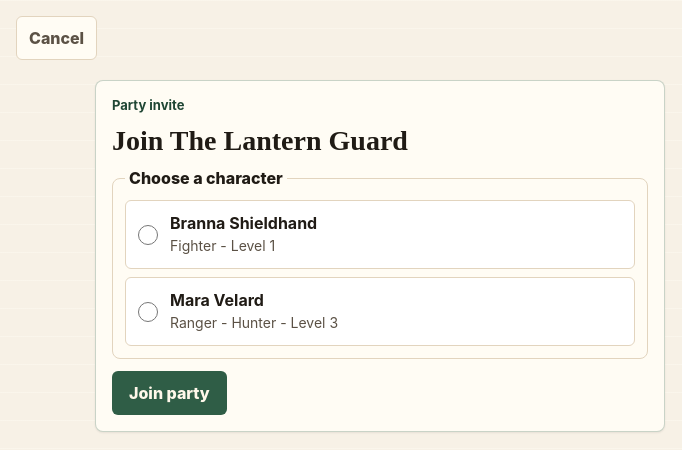
Test: JoinPartyPage › reports join-time invite unavailability and replaces the form with a safe state
The image size is (682, 450).
Click the radio button labelled "Branna Shieldhand Fighter - Level 1": point(148, 235) [138, 225, 158, 245]
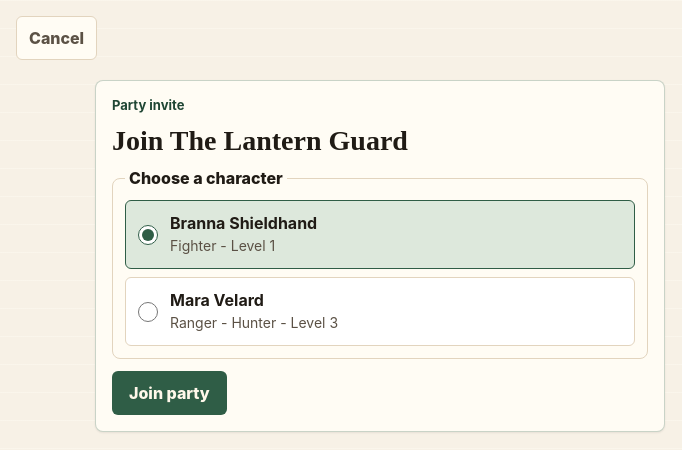
Click the button "Join party": point(169, 393) [112, 371, 227, 415]
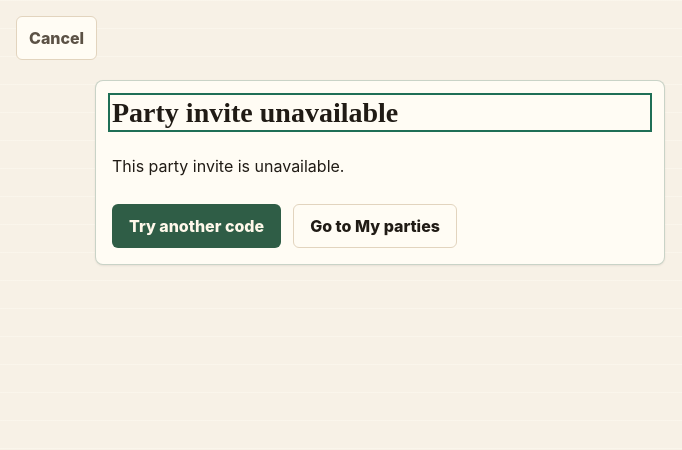
Now the heading "Party invite unavailable" is shown, box [112, 97, 398, 128]
Now the button "Join party" is gone
Now the heading "The Lantern Guard" is gone
